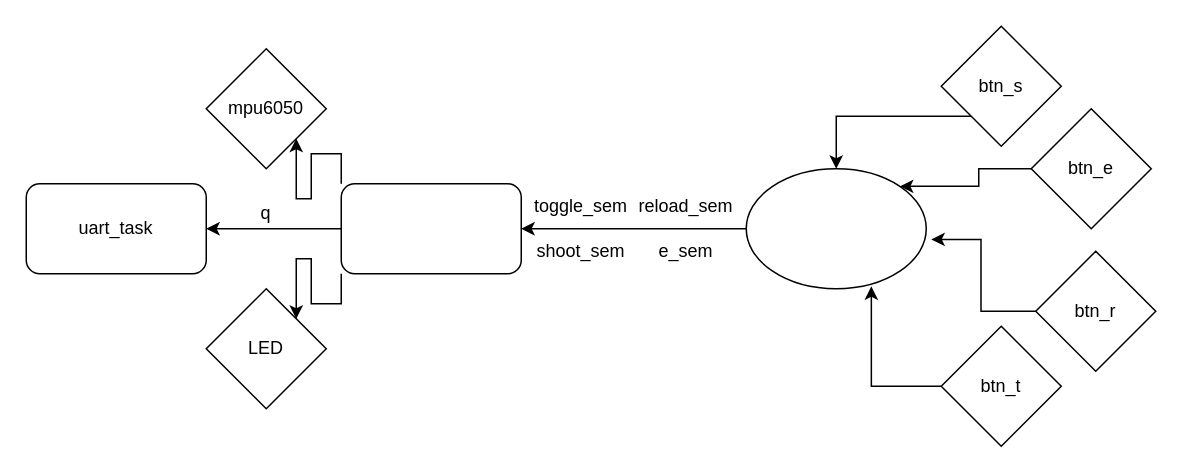
The diagram is 1182 pixels wide and 473 high, and some of its shapes have lost their labels. Here are the shapes that lost their labels. From the top down, the centre of each, then its label:
point (430, 228): mpu6050_task
point (835, 228): GPIO_callback
